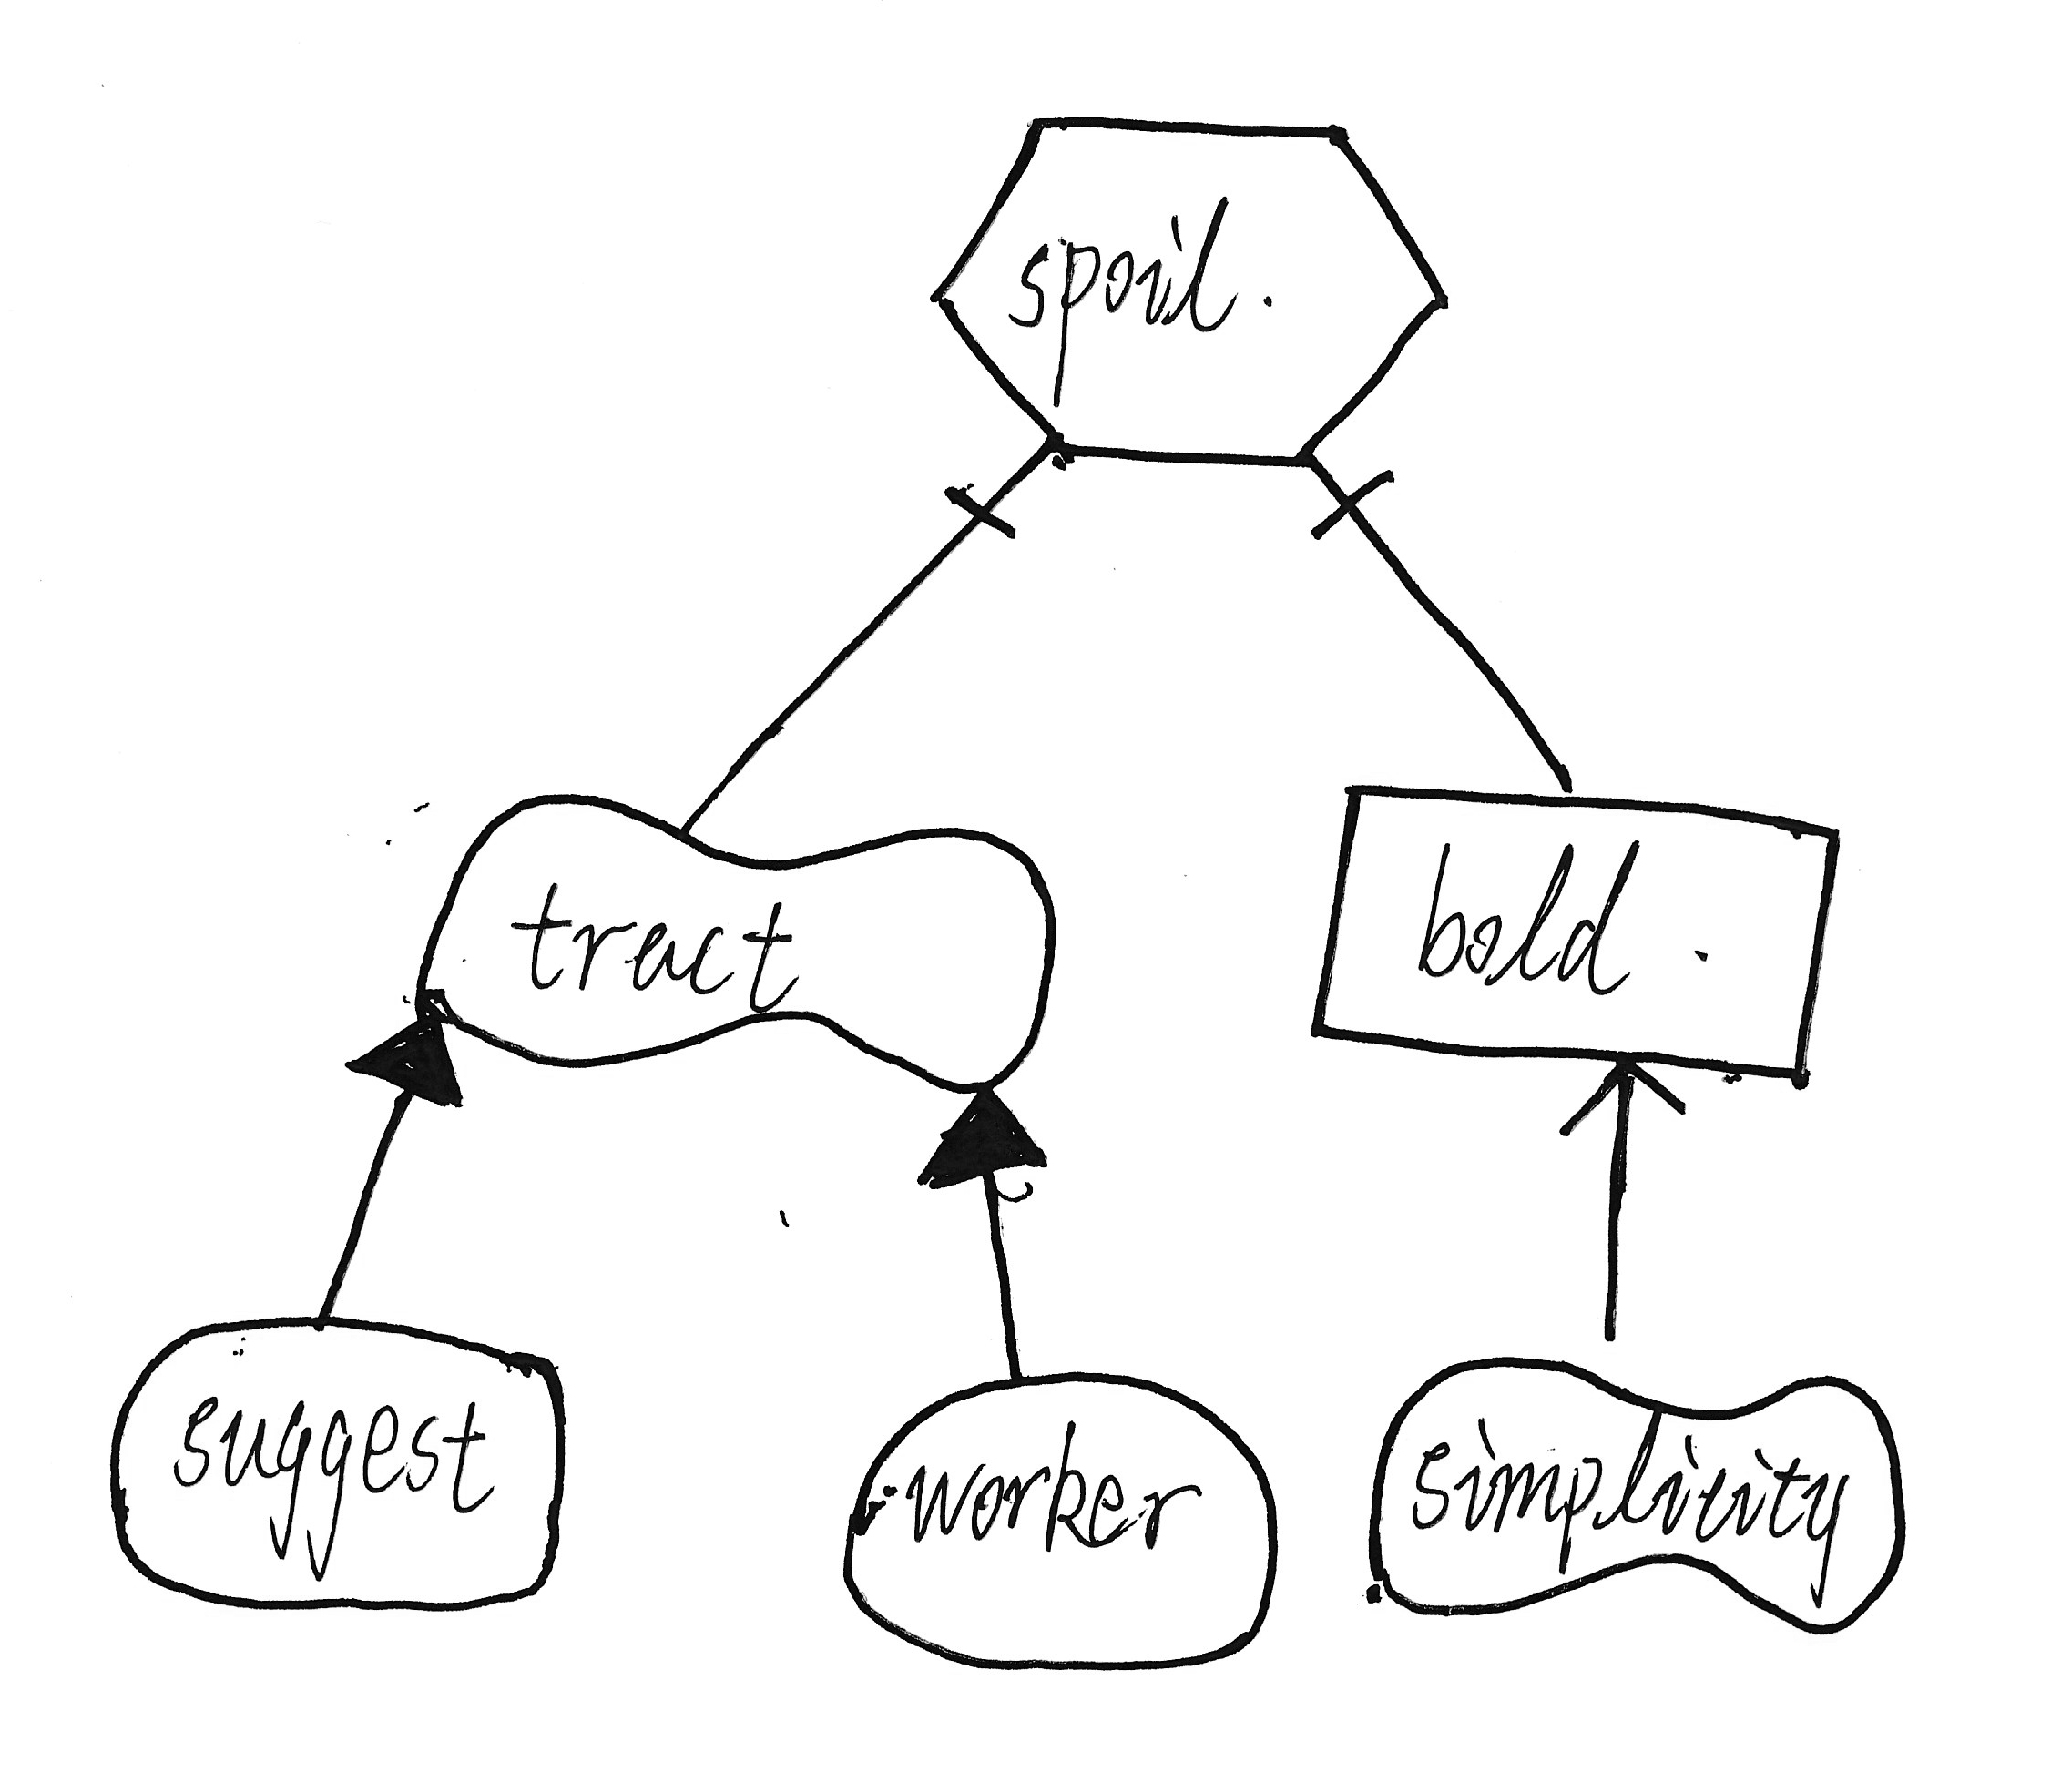and: (931, 432, 1045, 580), (1282, 460, 1416, 560)
arrow: (1545, 1048, 1700, 1161)
goal: (87, 1290, 588, 1640), (823, 1349, 1299, 1686)
or: (898, 1081, 1062, 1215), (326, 1002, 478, 1138)
quality: (387, 772, 1074, 1116), (1339, 1335, 1918, 1653)
resource: (1291, 764, 1864, 1107)
task: (907, 89, 1470, 485)
